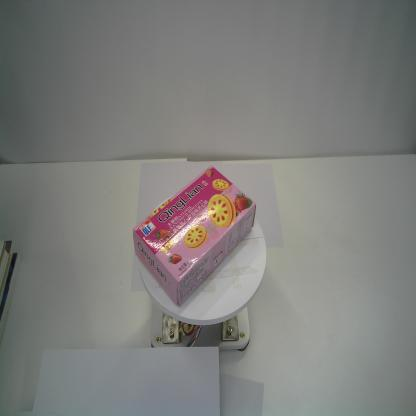Dessert: (133, 164, 256, 308)
